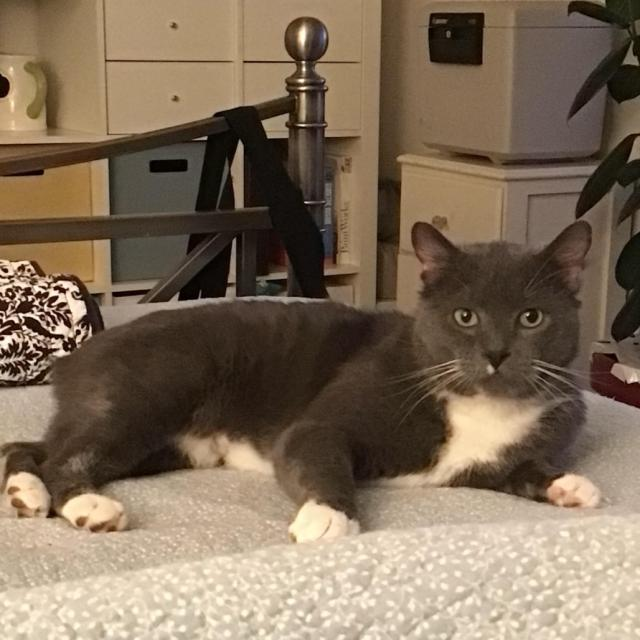manx_cat: (367, 210, 617, 437)
